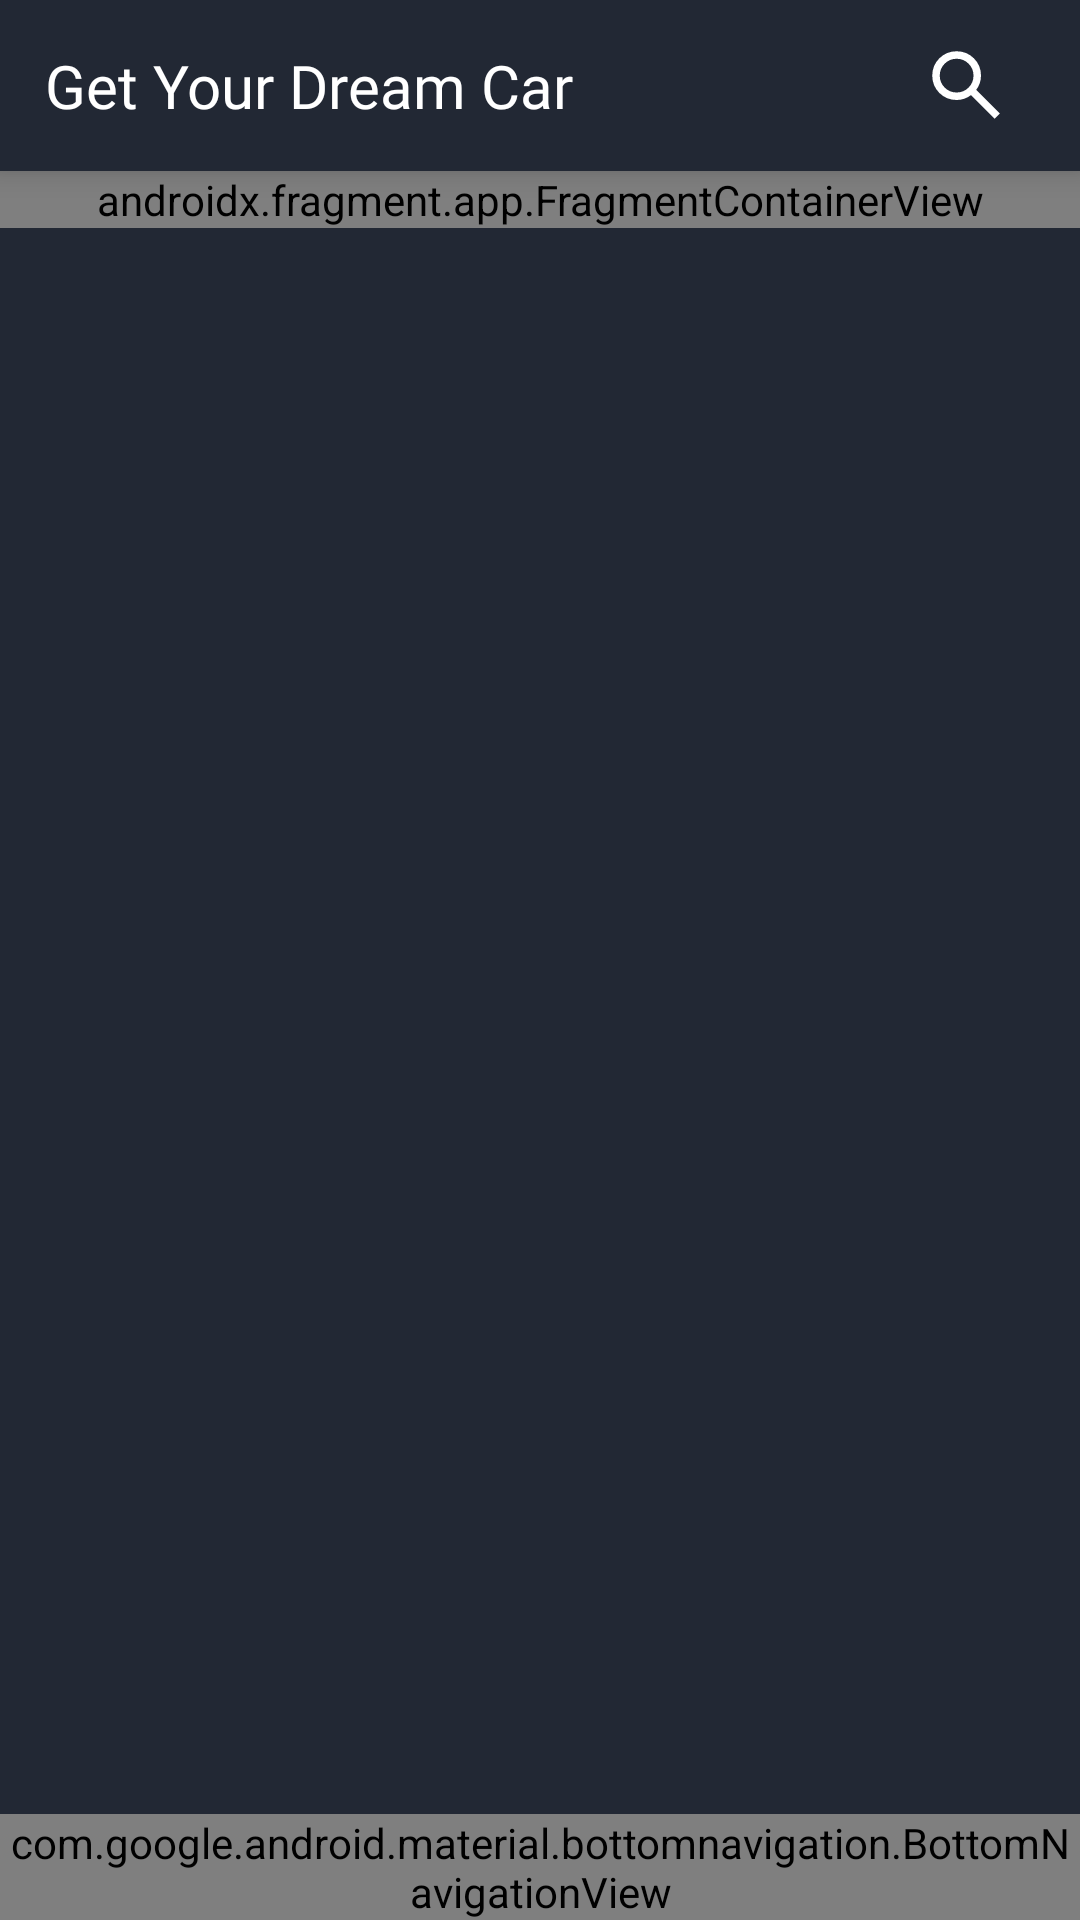

Icon click points for this 1080x1920 phone screenshot, format (x=x, y=y):
search: (x=966, y=85)
